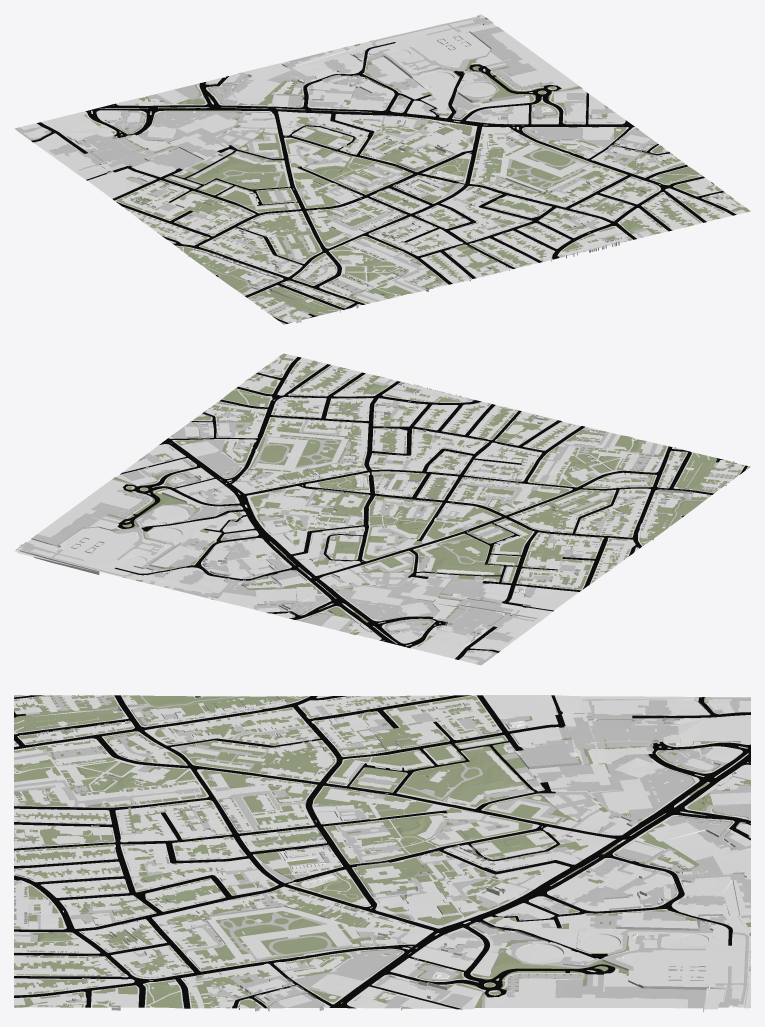
The model's file is TQ3477_Terrain_LOD_1_draco.glb.
3 renders of one model, top to bottom at view 1: azimuth 30°, elevation 25°; view 2: azimuth 150°, elevation 25°; view 3: azimuth 270°, elevation 25°, orthographic. The views are drawn at different scales.
Parts seen in each view (by area): view 1: TQ3477_Terrain; view 2: TQ3477_Terrain; view 3: TQ3477_Terrain.
Boxes of the visible parts, x1,y1,x2,y2 form: TQ3477_Terrain: (14,14,750,324); TQ3477_Terrain: (14,353,750,665); TQ3477_Terrain: (14,694,750,1012).
Size of the model in its own units: 1000 by 14.71 by 1000.
1 material, 1 textured.
